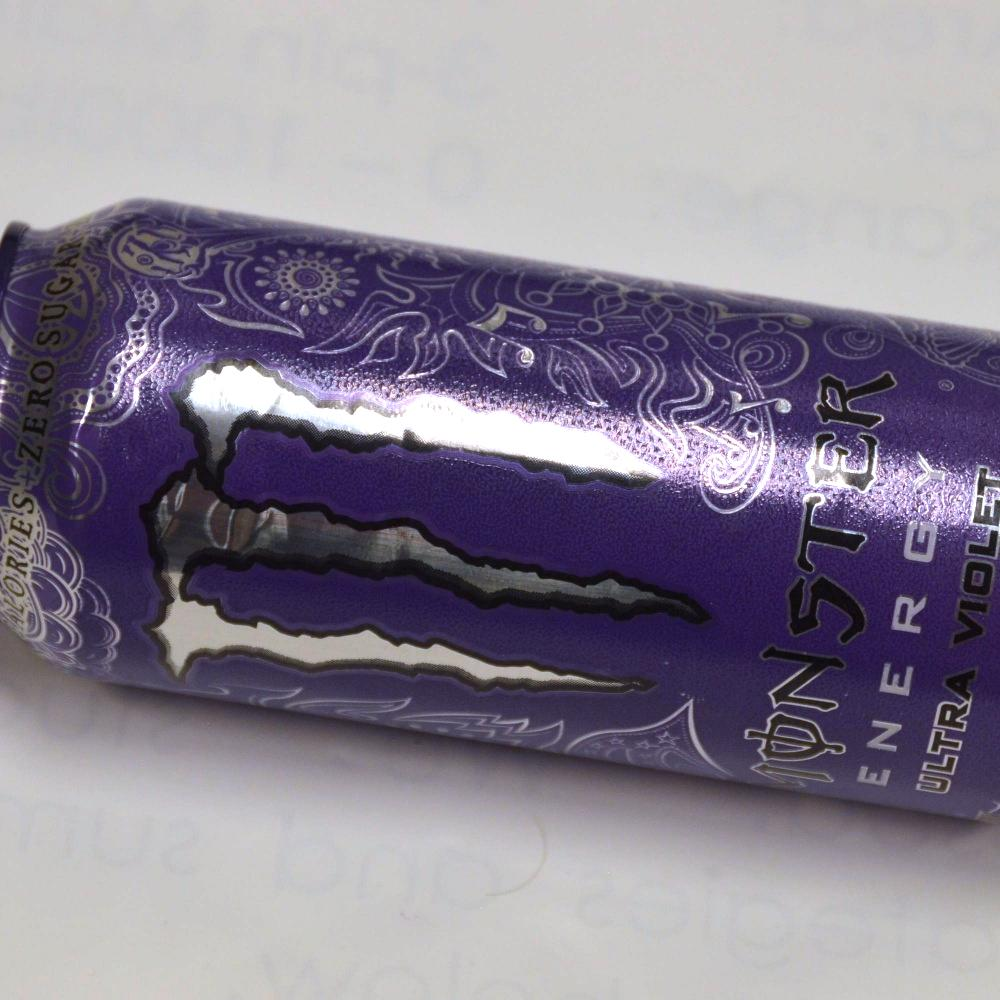Metal: (15, 182, 965, 848)
